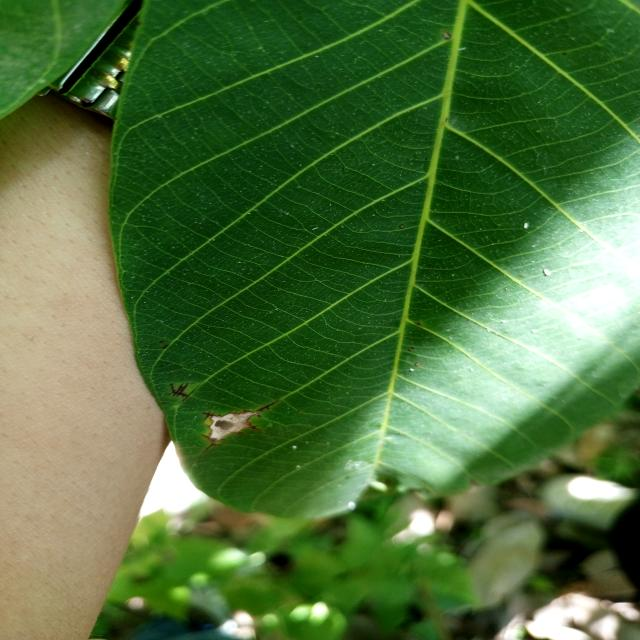Corynespora: (167, 383, 199, 403), (201, 434, 225, 452), (256, 400, 278, 412), (201, 411, 221, 419), (248, 422, 262, 432)
Leaf-Blight: (210, 412, 257, 439)
